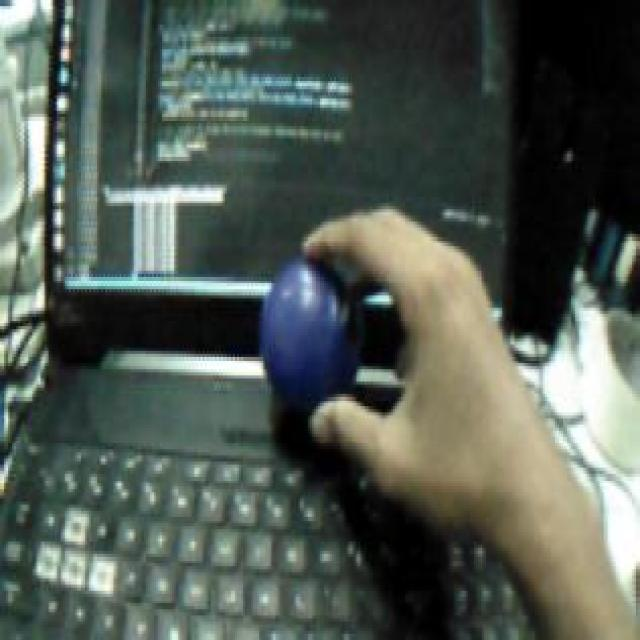BallPurple: (262, 258, 361, 416)
